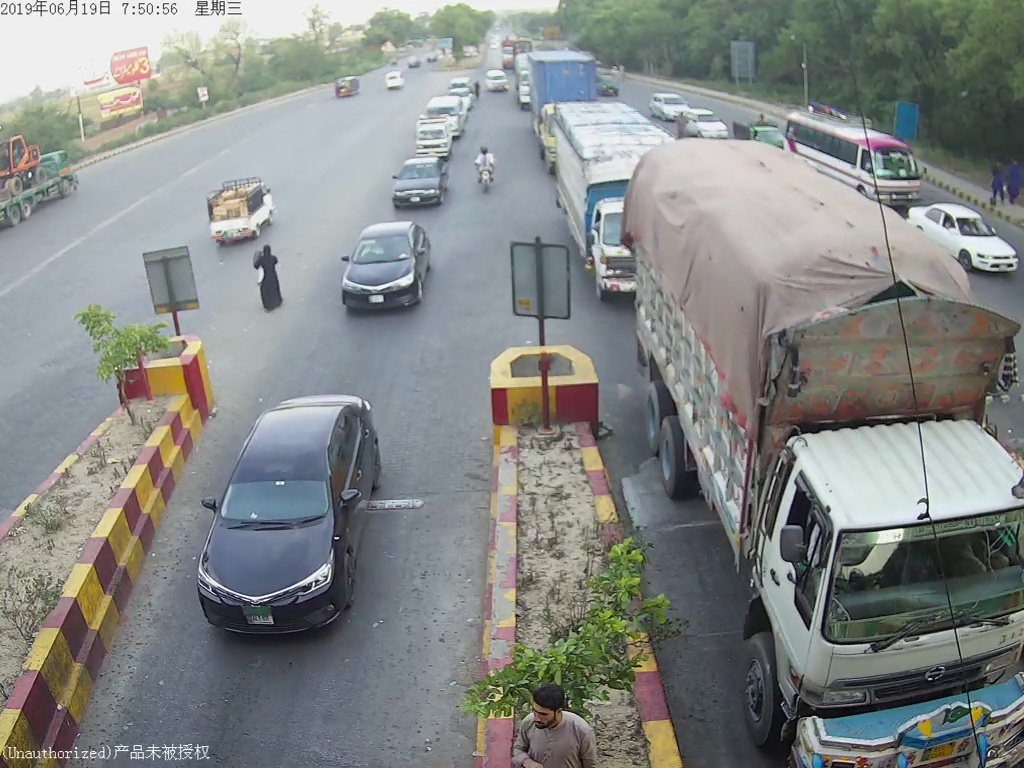Cat-1: (193, 380, 381, 643), (336, 215, 433, 312), (386, 153, 452, 208)
Cat-4: (650, 146, 1024, 756), (548, 96, 680, 310)
